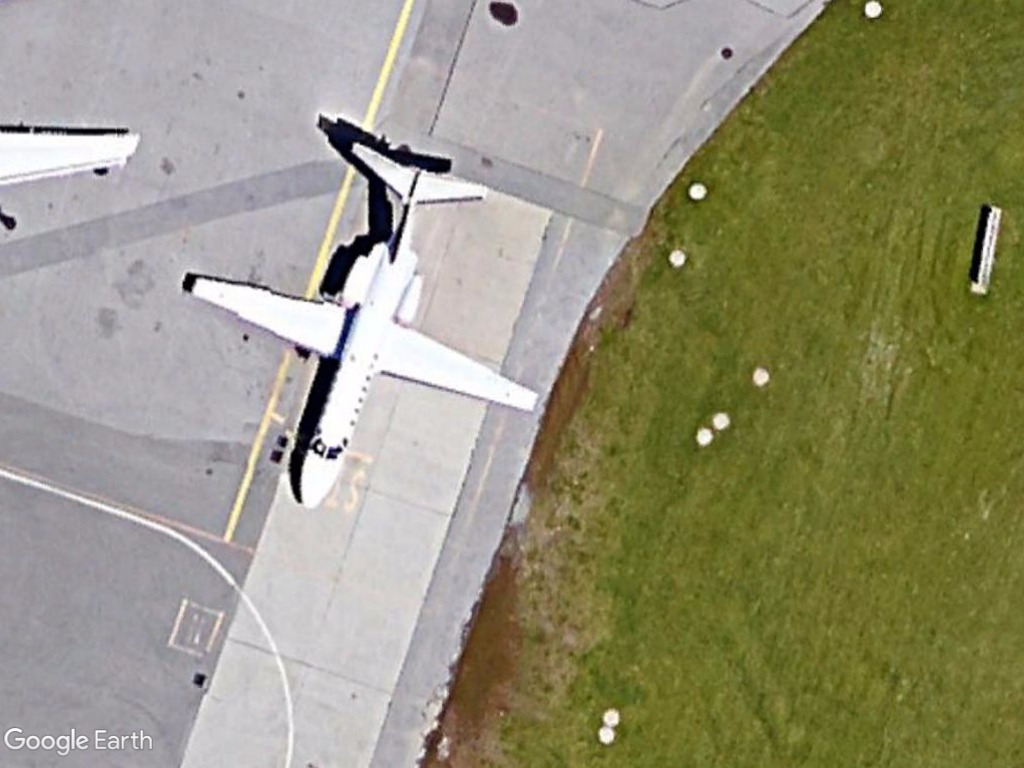chartered: (183, 122, 552, 516)
